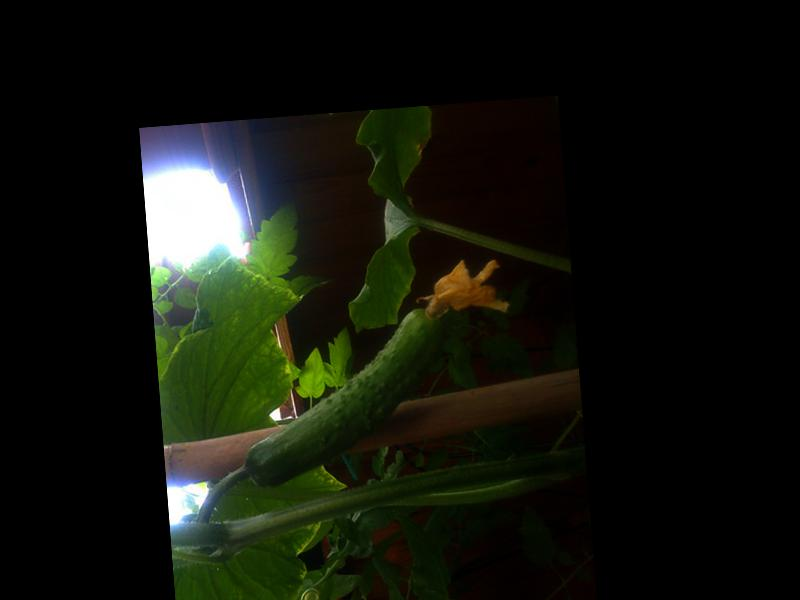Cucumber: (231, 254, 522, 487)
